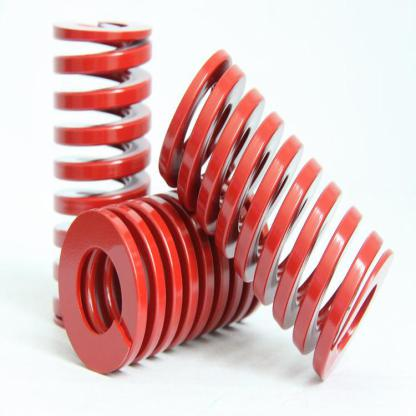FOD: (158, 48, 397, 387), (57, 172, 268, 376), (49, 15, 153, 332)
